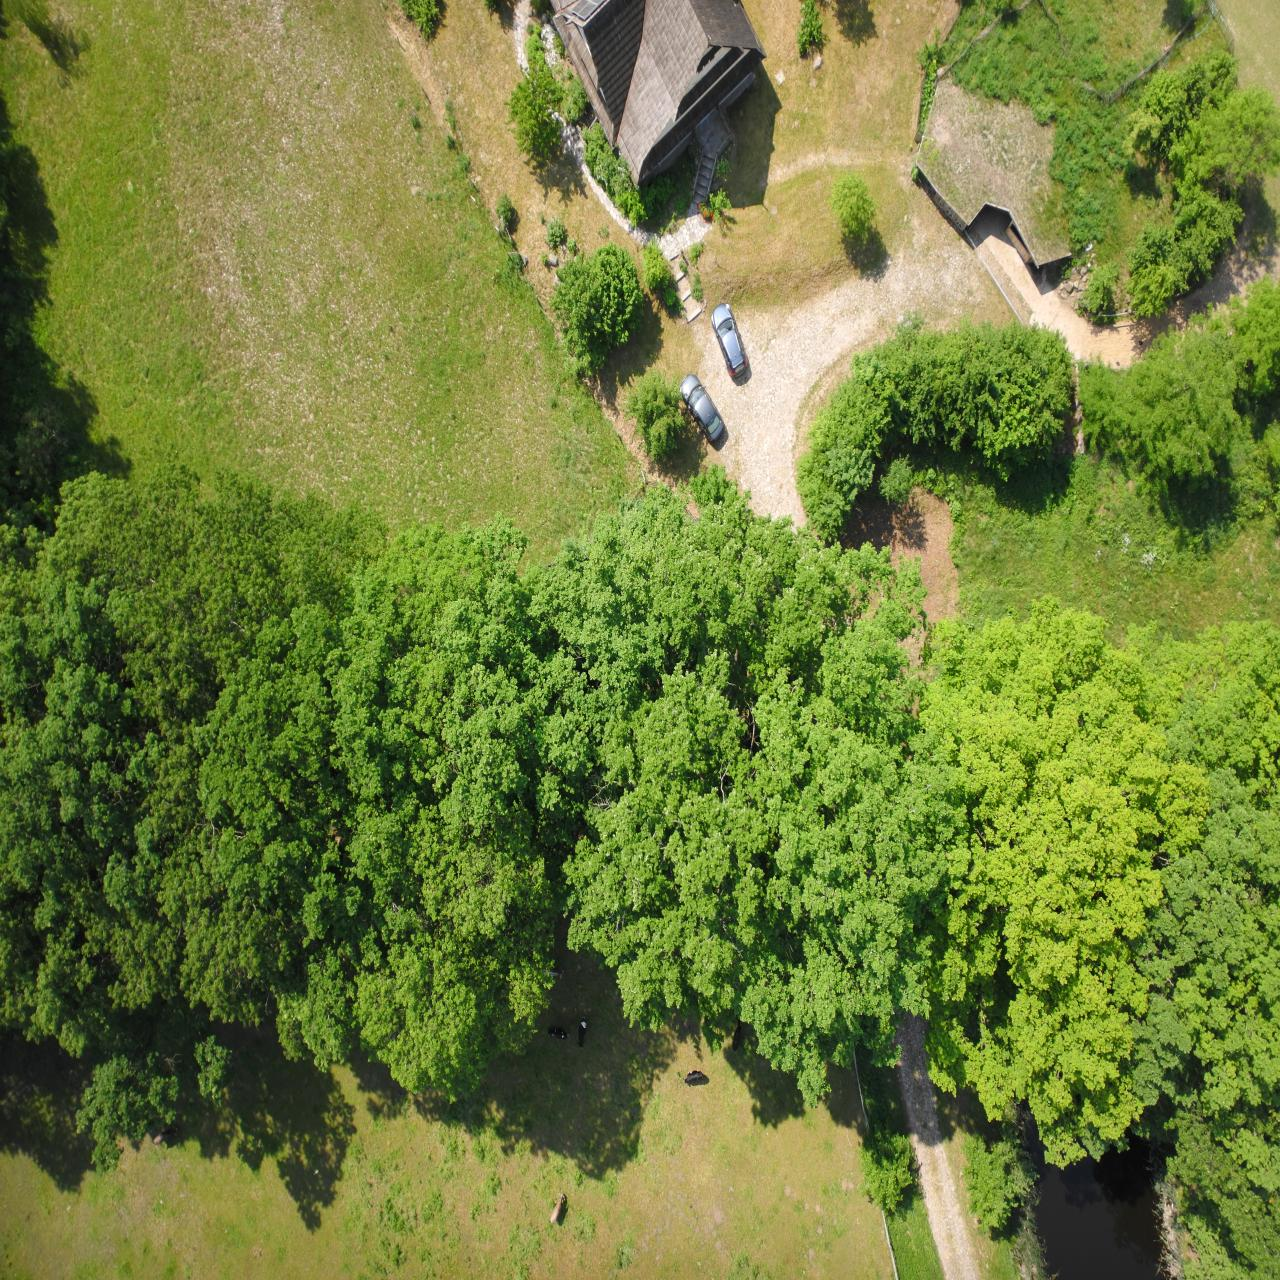cow: (714, 56, 730, 88), (711, 239, 732, 254), (577, 195, 597, 210), (694, 232, 702, 262), (715, 301, 736, 312), (539, 228, 547, 256)
